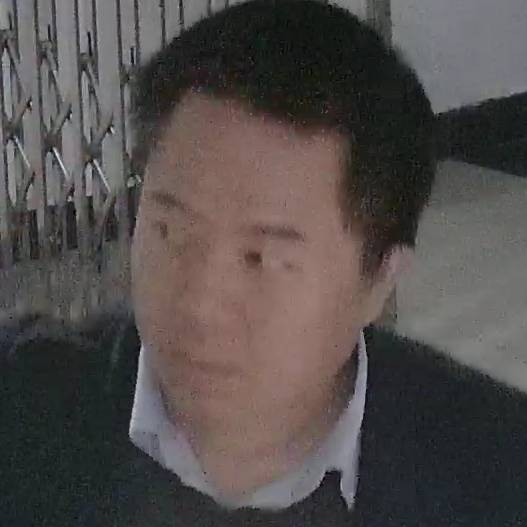cb: (100, 58, 475, 433)
